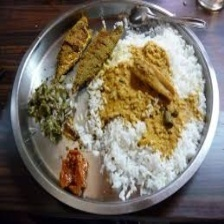rice: (81, 117, 194, 194)
